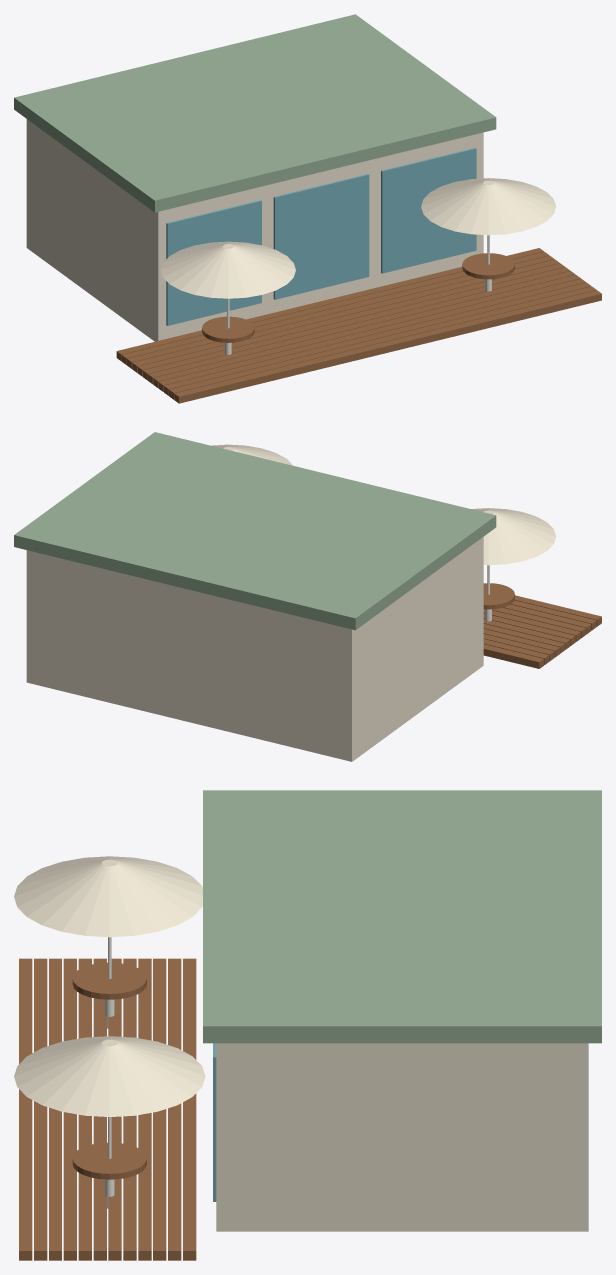
The model's file is cafe.glb.
3 renders of one model, top to bottom at view 1: azimuth 30°, elevation 25°; view 2: azimuth 150°, elevation 25°; view 3: azimuth 270°, elevation 25°, orthographic. The views are drawn at different scales.
Visible parts, largest first — view 1: Cafe flat roof, Cafe walls, Cafe glazing.001, Cafe glazing.002, Cone.001, Cone, Cafe glazing, Terrace boards.011, Terrace boards.007, Terrace boards.010, Terrace boards.008, Terrace boards.006 (+9 smaller); view 2: Cafe walls, Cafe flat roof, Cone, Terrace boards, Table, Cone.001, Terrace boards.007, Terrace boards.008, Terrace boards.011, Terrace boards.006, Terrace boards.005, Terrace boards.009 (+3 smaller); view 3: Cafe flat roof, Cafe walls, Cone.001, Cone, Terrace boards.011, Terrace boards, Terrace boards.010, Terrace boards.001, Terrace boards.002, Terrace boards.008, Terrace boards.009, Terrace boards.003 (+7 smaller).
Part boxes in pixels (x1,y1,x2,y2): Cafe flat roof: (14,14,496,212); Cafe walls: (26,119,483,341); Cafe glazing.001: (273,174,369,299); Cafe glazing.002: (381,147,476,273); Cone.001: (421,178,556,235); Cone: (161,241,295,298); Cafe glazing: (166,200,261,325); Terrace boards.011: (174,290,601,403); Terrace boards.007: (153,275,580,388); Terrace boards.010: (169,286,596,399); Terrace boards.008: (158,278,586,391); Terrace boards.006: (148,271,575,384); Cafe walls: (26,537,483,761); Cafe flat roof: (14,432,496,630); Cone: (471,508,556,565); Terrace boards: (483,644,543,668); Table: (483,583,514,609); Cone.001: (212,444,293,465); Terrace boards.007: (483,609,580,641); Terrace boards.008: (492,607,586,638); Terrace boards.011: (514,595,601,626); Terrace boards.006: (483,613,575,645); Terrace boards.005: (483,618,570,649); Terrace boards.009: (503,604,591,634); Cafe flat roof: (203,790,601,1043); Cafe walls: (216,1043,588,1231); Cone.001: (14,1036,205,1116); Cone: (14,856,202,937); Terrace boards.011: (19,958,32,1260); Terrace boards: (183,958,196,1260); Terrace boards.010: (34,958,47,1260); Terrace boards.001: (168,958,181,1260); Terrace boards.002: (153,958,166,1260); Terrace boards.008: (63,958,76,1260); Terrace boards.009: (49,958,61,1260); Terrace boards.003: (138,958,151,1260).
Bounding box in the file's own units: 13 × 4.37 × 11.05.
